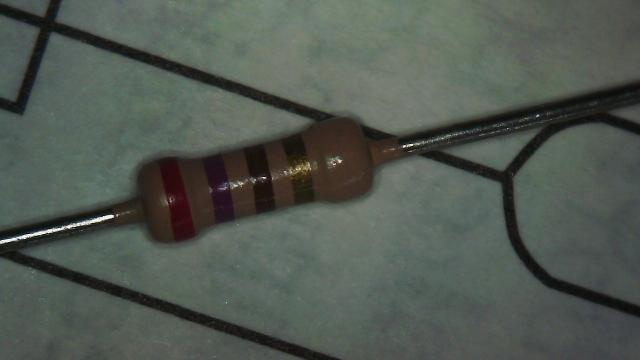brown: (244, 145, 274, 212)
gold: (284, 134, 314, 203)
red: (158, 158, 194, 241)
resistor: (101, 92, 407, 264)
violet: (202, 154, 234, 223)
